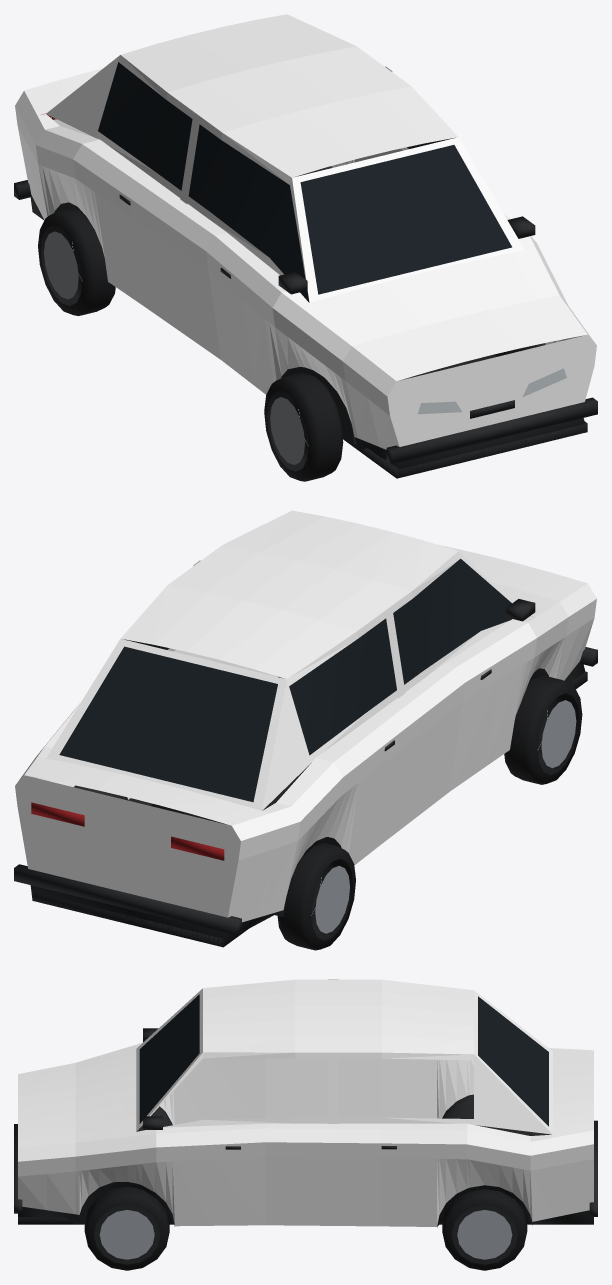
File: volnar_broto.glb
3 views of the same model, one above another, from view 1: azimuth 30°, elevation 25°; view 2: azimuth 150°, elevation 25°; view 3: azimuth 270°, elevation 25° (orthographic). The views are drawn at different scales.
Parts seen in each view (by area): view 1: Body_Paint, Body_Details, Mount_FrontLeft_Wheel_Details, Mount_RearLeft_Wheel_Details; view 2: Body_Paint, Body_Details, Mount_FrontLeft_Wheel_Details, Mount_RearLeft_Wheel_Details; view 3: Body_Paint, Body_Details, Mount_FrontRight_Wheel_Details, Mount_RearRight_Wheel_Details.
Part boxes in pixels (box(x1,y1,x2,y2)): Body_Paint: box(15, 14, 596, 449); Body_Details: box(14, 62, 597, 478); Mount_FrontLeft_Wheel_Details: box(264, 372, 343, 481); Mount_RearLeft_Wheel_Details: box(38, 208, 115, 315); Body_Paint: box(15, 510, 596, 922); Body_Details: box(14, 558, 597, 947); Mount_FrontLeft_Wheel_Details: box(504, 675, 582, 784); Mount_RearLeft_Wheel_Details: box(277, 843, 355, 950); Body_Paint: box(18, 979, 593, 1226); Body_Details: box(14, 994, 597, 1227); Mount_FrontRight_Wheel_Details: box(84, 1186, 169, 1270); Mount_RearRight_Wheel_Details: box(442, 1189, 527, 1270).
Bounding box in the file's own units: 1.63 × 1.51 × 3.86.
2 materials, 1 textured.
